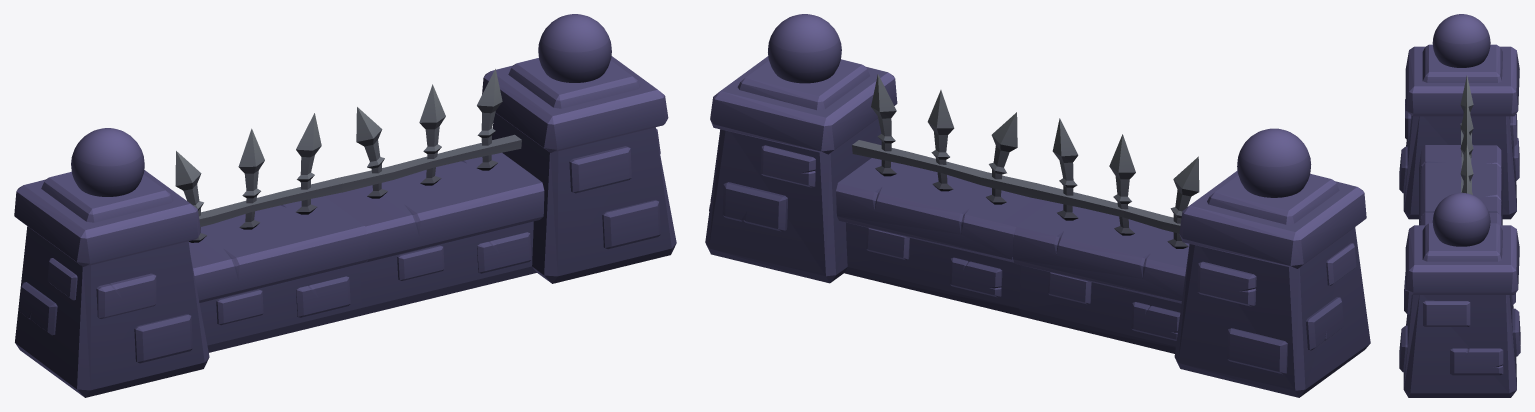
The model's file is fence_medium.glb.
The picture shows the model from 3 angles, left to right: view 1: azimuth 30°, elevation 25°; view 2: azimuth 150°, elevation 25°; view 3: azimuth 270°, elevation 25°; orthographic projection. The views are drawn at different scales.
Parts seen in each view (by area): view 1: fence_medium; view 2: fence_medium; view 3: fence_medium.
Boxes of the visible parts, x1,y1,x2,y2 form: fence_medium: [14, 14, 676, 397]; fence_medium: [705, 14, 1370, 397]; fence_medium: [1399, 14, 1520, 397].
Bounding box in the file's own units: 7.99 × 2.88 × 1.77.
Materials: 1 (1 with a texture image).
